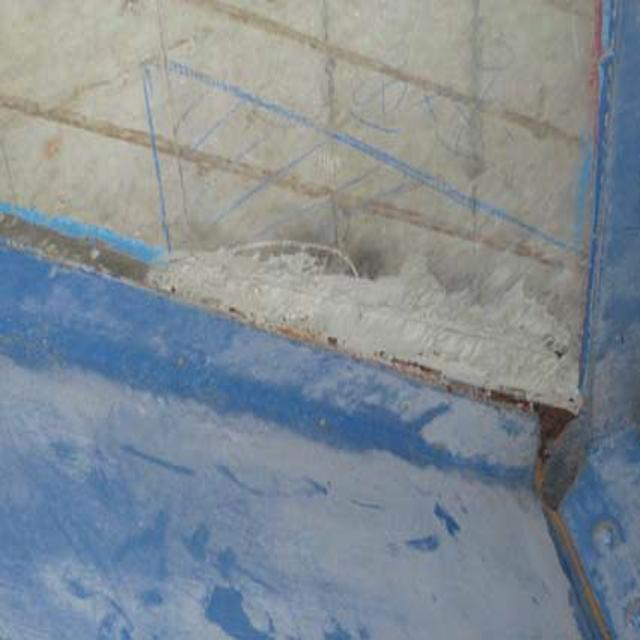spalling: (167, 201, 610, 423)
